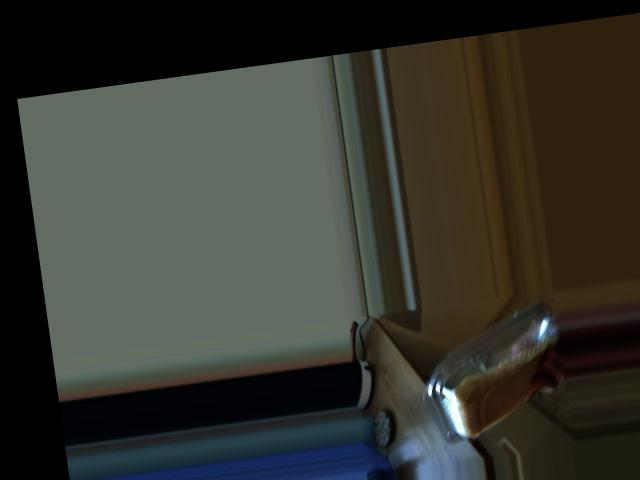cheese: (431, 327, 520, 427)
